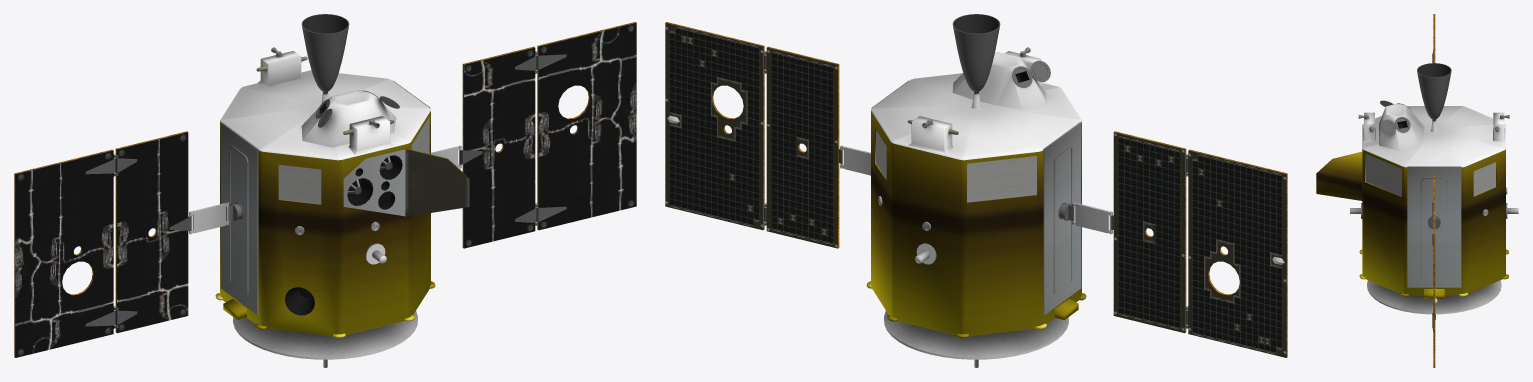
File: space-clementine.glb
3 renders of one model, left to right at view 1: azimuth 30°, elevation 25°; view 2: azimuth 150°, elevation 25°; view 3: azimuth 270°, elevation 25°, orthographic. The views are drawn at different scales.
Visible parts, largest first — view 1: tex_01, foil_gold, foil_white, AO_dish, AO_hinges; view 2: shiny_panel, foil_gold, tex_01, foil_white, AO_dish, AO_hinges; view 3: foil_gold, tex_01, foil_white, AO_dish.
Boxes of the visible parts, x1,y1,x2,y2 form: tex_01: (14, 14, 636, 357); foil_gold: (215, 111, 469, 338); foil_white: (220, 51, 430, 160); AO_dish: (233, 243, 417, 367); AO_hinges: (85, 51, 566, 328); shiny_panel: (665, 23, 1286, 357); foil_gold: (866, 111, 1086, 338); tex_01: (665, 14, 1287, 357); foil_white: (871, 51, 1081, 160); AO_dish: (884, 243, 1068, 367); AO_hinges: (764, 51, 1188, 328); foil_gold: (1316, 149, 1508, 298); tex_01: (1358, 14, 1509, 367); foil_white: (1362, 103, 1505, 167); AO_dish: (1350, 203, 1518, 319).
Bounding box in the file's own units: 4.13 × 2.18 × 1.6.
7 materials, 6 textured.
